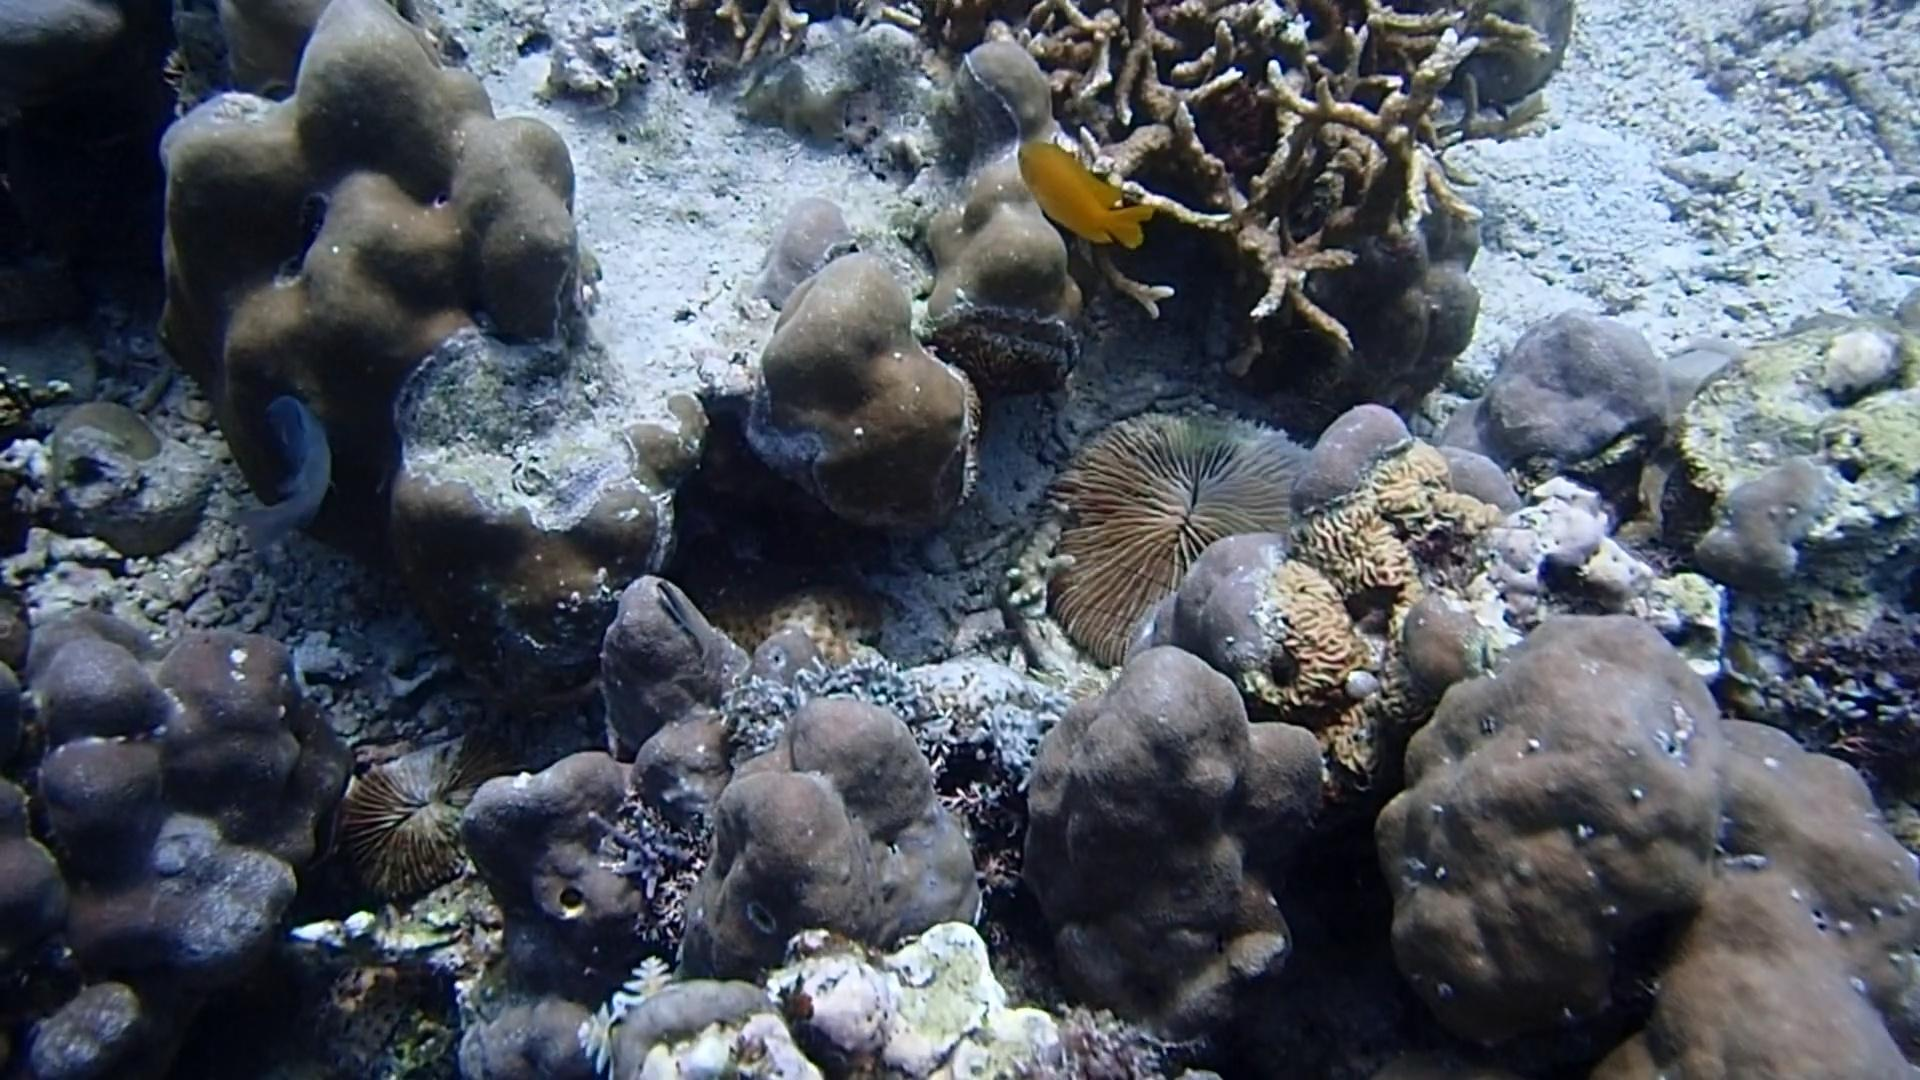Blue Fish Two: (229, 389, 347, 568)
Yellow Fish: (1010, 131, 1160, 256)
